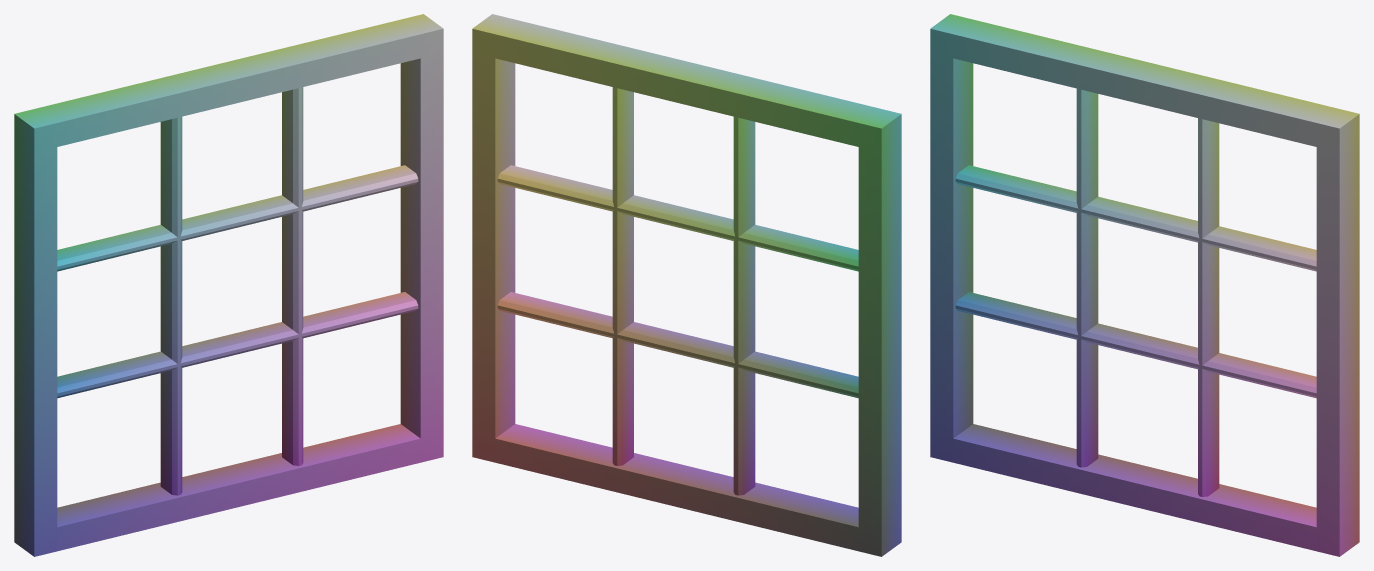
File: kiwaku_PREBAKE.glb
The picture shows the model from 3 angles, left to right: view 1: azimuth 30°, elevation 25°; view 2: azimuth 150°, elevation 25°; view 3: azimuth 330°, elevation 25°; orthographic projection.
Size of the model in its own units: 1 by 1 by 0.085.
